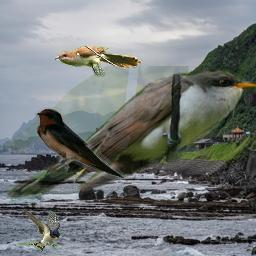Cuckoo: (3, 66, 256, 199), (54, 46, 142, 77)
Swallow: (34, 107, 126, 180), (18, 208, 60, 252)
